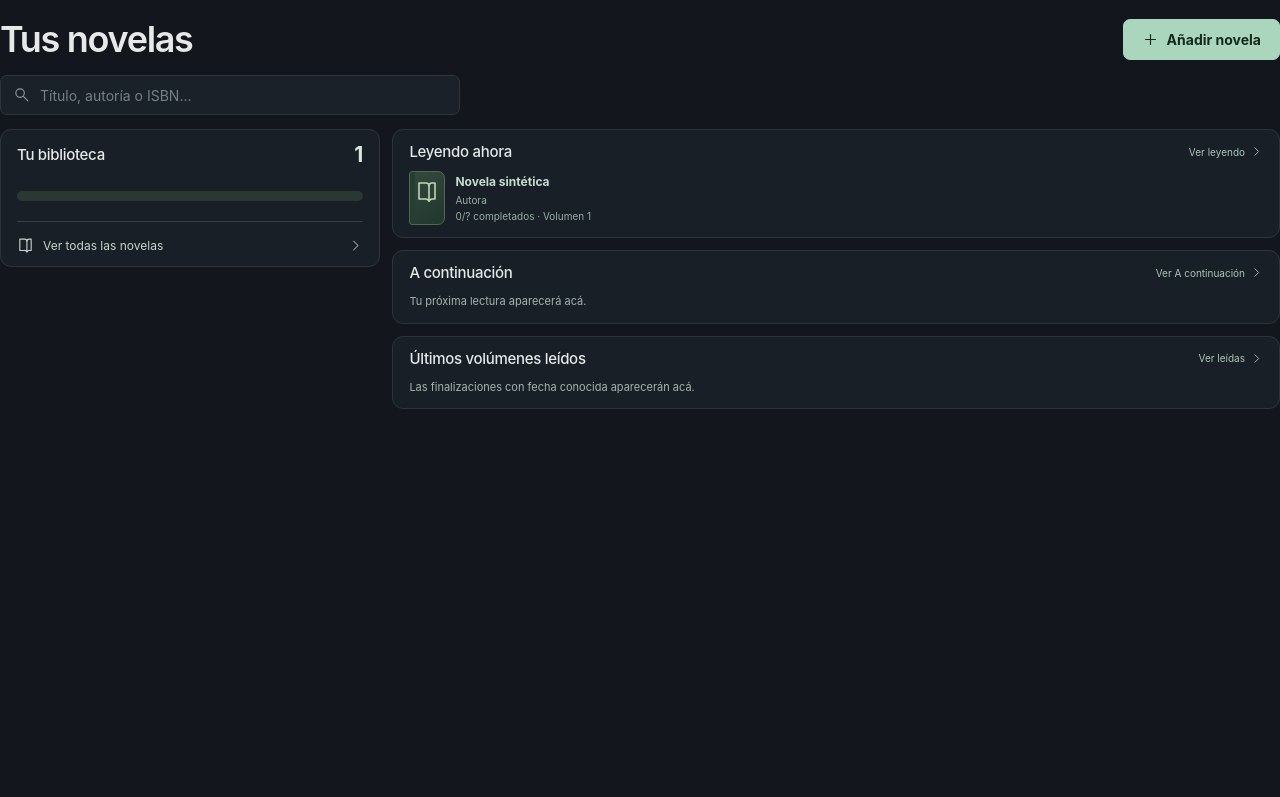
Test: terminar deja el siguiente pendiente sin iniciarlo y conserva el borrador de notas
Click the button with aria-label "Abrir novela Novela sintética" at (427, 198), box [409,171,832,225]
(page scrolled)
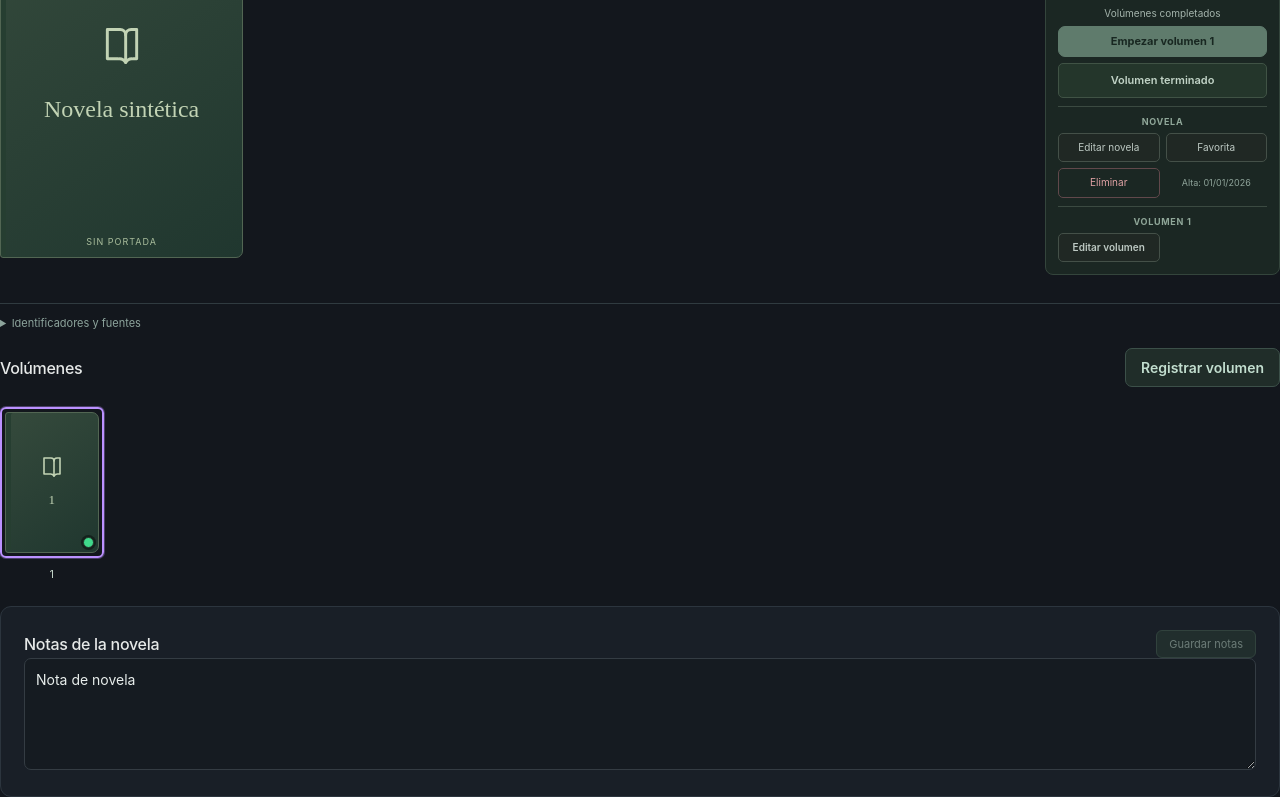
Replace the text in the text box named "Notas de la novela" with "Borrador todavía sin guardar" at (640, 714), box [24,658,1256,770]
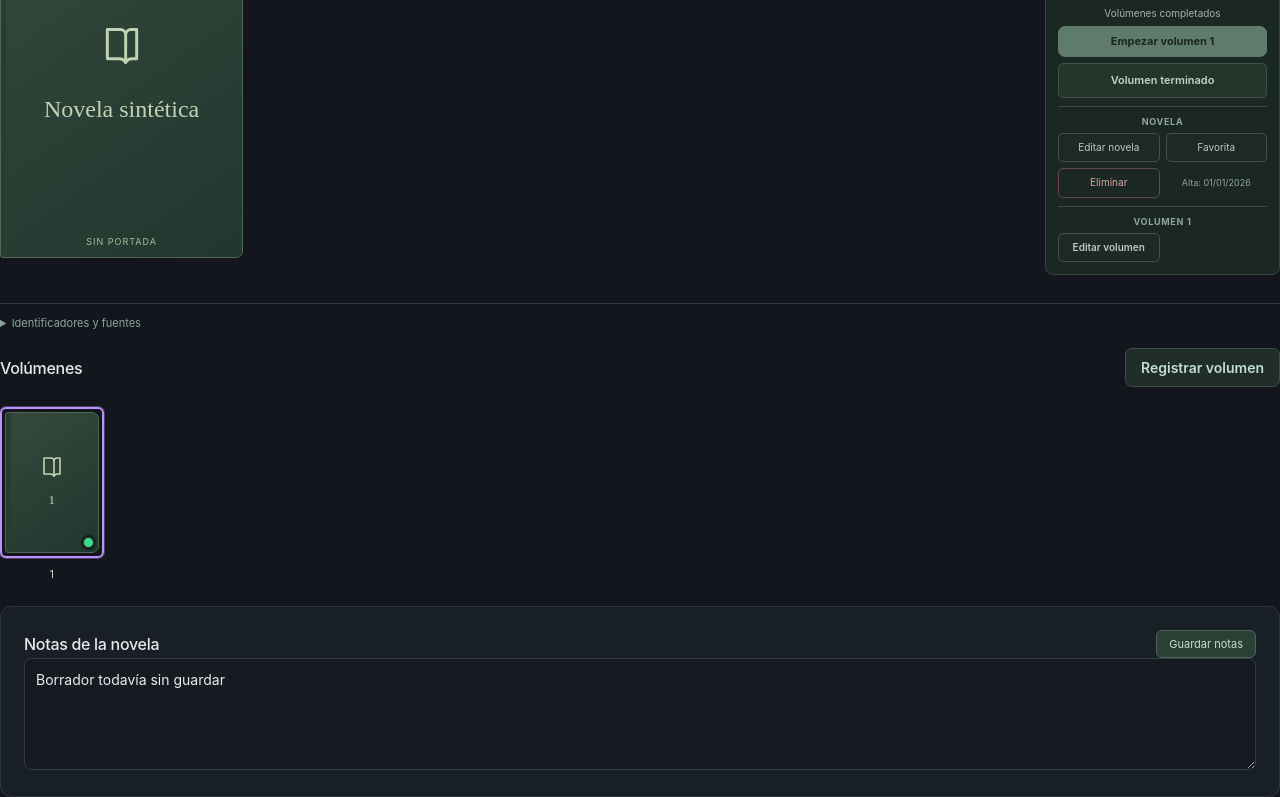
Click the button "Volumen terminado" at (1162, 80), box [1058,63,1267,98]
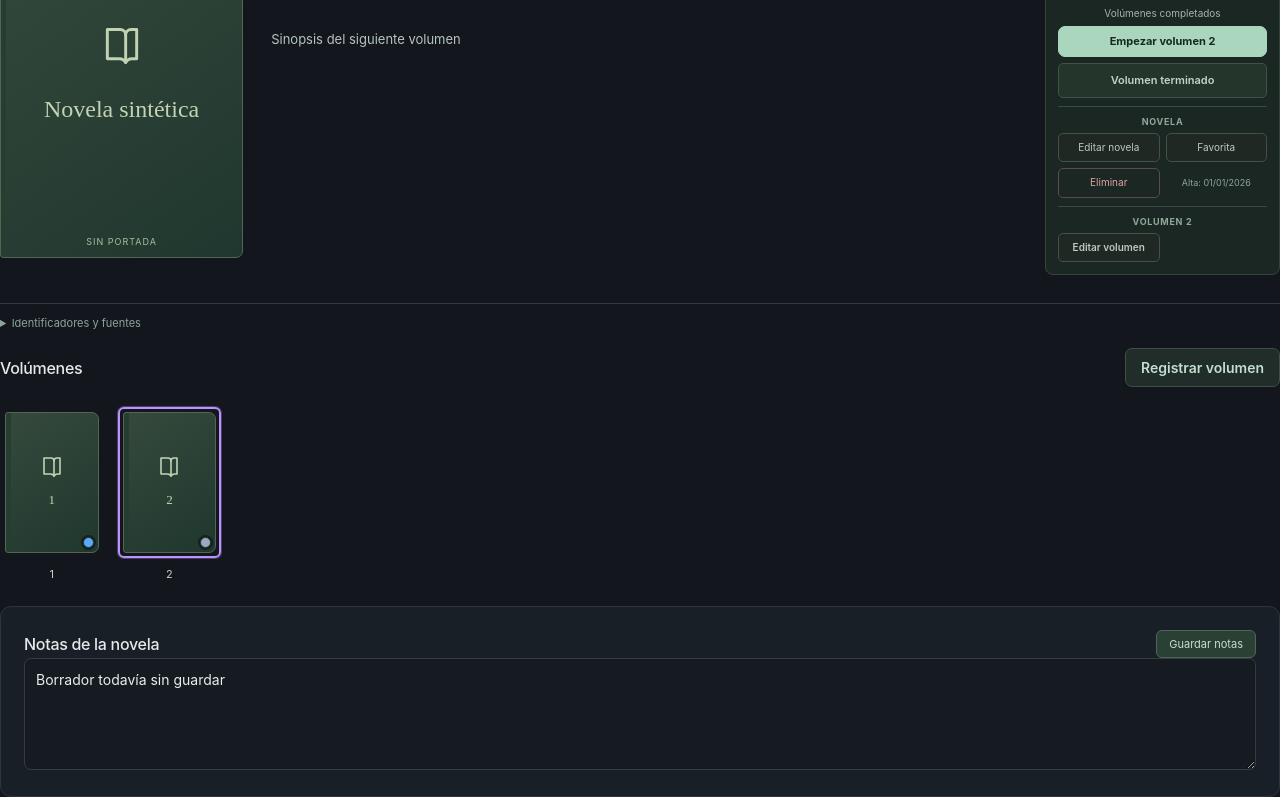
Expected: the button "Empezar volumen 2" is shown, [1058,26,1267,57]
Expected: the text "Sinopsis del siguiente volumen" is shown, [271,31,461,47]
